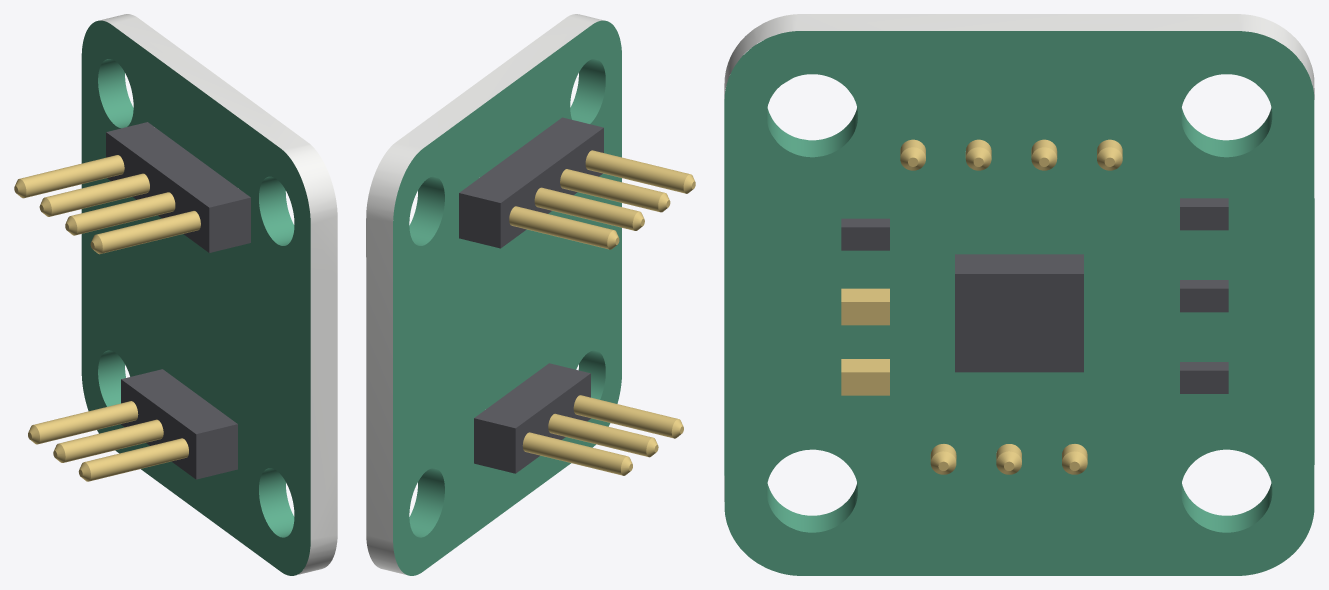
3 renders of one model, left to right at view 1: azimuth 30°, elevation 25°; view 2: azimuth 150°, elevation 25°; view 3: azimuth 270°, elevation 25°, orthographic. The views are drawn at different scales.
Parts seen in each view (by area): view 1: pcb-green, silkscreen, plastic-black, gold; view 2: pcb-green, silkscreen, plastic-black, gold; view 3: pcb-green, plastic-black, silkscreen, gold.
Boxes of the visible parts, x1=… form: pcb-green: x1=81, y1=20, x2=310, y2=575; silkscreen: x1=99, y1=14, x2=337, y2=575; plastic-black: x1=106, y1=122, x2=250, y2=479; gold: x1=14, y1=155, x2=200, y2=481; pcb-green: x1=393, y1=20, x2=621, y2=575; silkscreen: x1=366, y1=14, x2=604, y2=574; plastic-black: x1=459, y1=117, x2=603, y2=473; gold: x1=509, y1=150, x2=695, y2=475; pcb-green: x1=724, y1=31, x2=1314, y2=575; plastic-black: x1=841, y1=198, x2=1228, y2=393; silkscreen: x1=724, y1=14, x2=1314, y2=501; gold: x1=841, y1=139, x2=1122, y2=474.
Bounding box in the file's own units: 0.0117 × 0.0233 × 0.0229.
